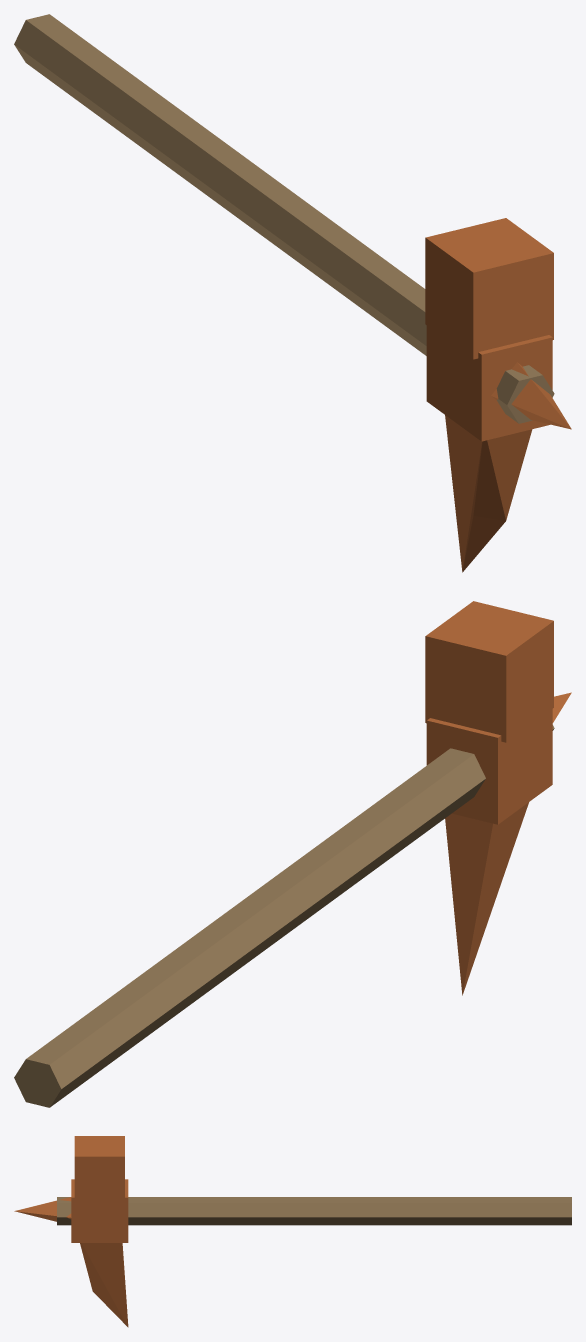
File: Warhammer.fbx
3 renders of one model, top to bottom at view 1: azimuth 30°, elevation 25°; view 2: azimuth 150°, elevation 25°; view 3: azimuth 270°, elevation 25°, orthographic. The views are drawn at different scales.
Visible parts, largest first — view 1: Warhammer; view 2: Warhammer; view 3: Warhammer.
Part boxes in pixels (box(x1,y1,x2,y2)): Warhammer: box(14, 14, 571, 572); Warhammer: box(14, 601, 571, 1107); Warhammer: box(14, 1136, 571, 1327).
Bounding box in the file's own units: 0.068 × 0.28 × 0.78.
